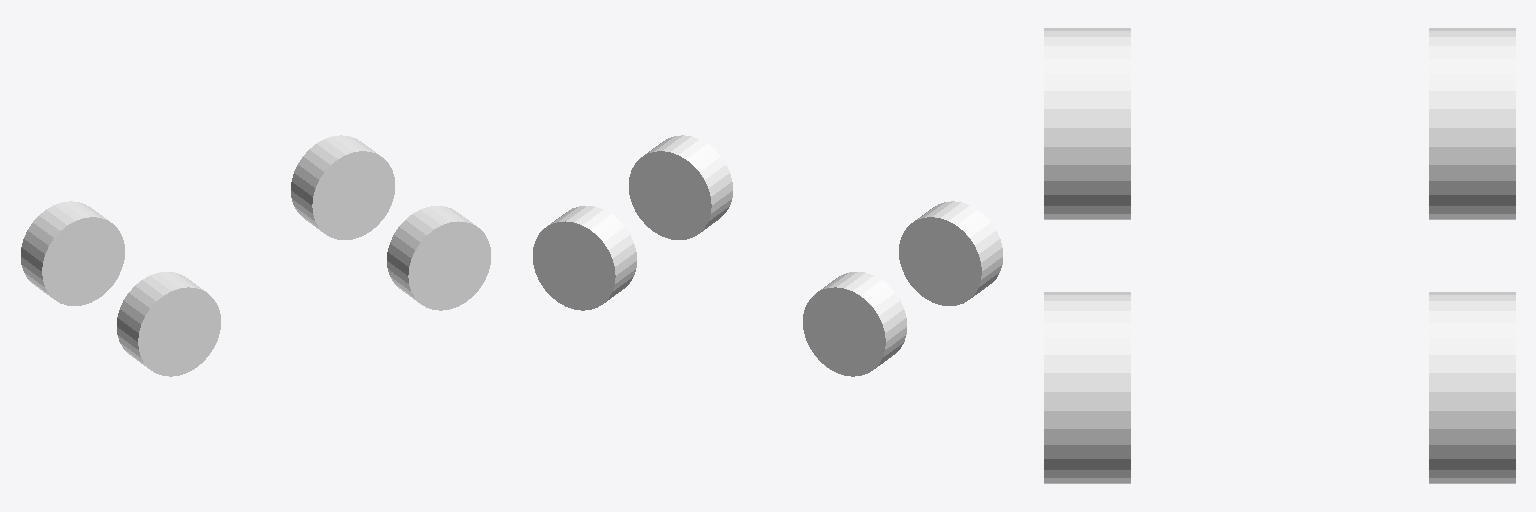
The robot description file, URDF, robot "racecar":
<?xml version="1.0" ?>
<!-- =================================================================================== -->
<!-- |    This document was autogenerated by xacro from racecar.xacro                  | -->
<!-- |    EDITING THIS FILE BY HAND IS NOT RECOMMENDED                                 | -->
<!-- =================================================================================== -->
<robot name="racecar" xmlns:xacro="http://www.ros.org/wiki/xacro">
  <!-- inertial parameter macros -->
  <!-- geometry macros -->
  <!-- transmission macros -->
  <!-- Add chassis and it's inertia link -->
  <link name="base_link">
   <inertial>
      <origin rpy="0 0 0" xyz="0 0 0"/>
      <mass value=".1"/>
      <inertia ixx="0.010609" ixy="0" ixz="0" iyy="0.050409" iyz="0" izz="0.05865"/>
    </inertial>
  </link>
  <link name="chassis">
   <inertial>
      <origin rpy="0 0 0" xyz="0 0 0"/>
      <mass value=".1"/>
      <inertia ixx="0.010609" ixy="0" ixz="0" iyy="0.050409" iyz="0" izz="0.05865"/>
    </inertial>
    <visual>
      <origin rpy="0 0 0" xyz="0 0 0"/>
      <geometry>
        <mesh filename="meshes/chassis.STL"/>
      </geometry>
      <material name="blue"/>
    </visual>
  </link>
  <joint name="base_link_joint" type="fixed">
    <origin rpy="0 0 0" xyz="0 0 0.05"/>
    <parent link="base_link"/>
    <child link="chassis"/>
  </joint>
  <link name="chassis_inertia">
    <inertial>
      <origin rpy="0 0 0" xyz="0.1477 0 0"/>
      <mass value="400.0"/>
      <inertia ixx="1.0609" ixy="0" ixz="0" iyy="5.0409" iyz="0" izz="5.865"/>
    </inertial>
  </link>
  <joint name="chassis_inertia_joint" type="fixed">
    <origin rpy="0 0 0" xyz="0 0 0"/>
    <parent link="chassis"/>
    <child link="chassis_inertia"/>
  </joint>
  <!-- Add the left rear wheel with its joints and tranmissions -->
  <link name="left_rear_wheel">
    <inertial>
      <origin rpy="0 0 0" xyz="0 0 -0.0225"/>
      <mass value="0.34055"/>
      <inertia ixx="0.00026046" ixy="0" ixz="0" iyy="0.00026046" iyz="0" izz="0.00041226"/>
    </inertial>
    <visual>
      <origin rpy="0 0 0" xyz="0 0 0"/>
      <geometry>
        <cylinder length="0.045" radius="0.05"/>
      </geometry>
      <material name="white"/>
    </visual>
    <collision>
      <origin rpy="0 0 0" xyz="0 0 -0.0225"/>
      <geometry>
        <cylinder length="0.045" radius="0.05"/>
      </geometry>
    </collision>
  </link>
  <joint name="left_rear_wheel_joint" type="continuous">
    <origin rpy="1.5708 0 0" xyz="0 0.1 0"/>
    <parent link="chassis"/>
    <child link="left_rear_wheel"/>
    <axis xyz="0 0 -1"/>
    <limit effort="10" velocity="100"/>
  </joint>
  <transmission name="left_rear_wheel_transmission" type="SimpleTransmission">
    <type>transmission_interface/SimpleTransmission</type>
    <joint name="left_rear_wheel_joint">
      <hardwareInterface>EffortJointInterface</hardwareInterface>
    </joint>
    <actuator name="left_rear_wheel_motor">
      <hardwareInterface>EffortJointInterface</hardwareInterface>
      <mechanicalReduction>1</mechanicalReduction>
    </actuator>
  </transmission>
  <!-- Add the right rear wheel with its joints and tranmissions -->
  <link name="right_rear_wheel">
    <inertial>
      <origin rpy="0 0 0" xyz="0 0 0.0225"/>
      <mass value="0.34055"/>
      <inertia ixx="0.00026046" ixy="0" ixz="0" iyy="0.00026046" iyz="0" izz="0.00041226"/>
    </inertial>
    <visual>
      <origin rpy="0 0 0" xyz="0 0 0"/>
      <geometry>
        <cylinder length="0.045" radius="0.05"/>
      </geometry>
      <material name="white"/>
    </visual>
    <collision>
      <origin rpy="0 0 0" xyz="0 0 0.0225"/>
      <geometry>
        <cylinder length="0.045" radius="0.05"/>
      </geometry>
    </collision>
  </link>
  <joint name="right_rear_wheel_joint" type="continuous">
    <origin rpy="1.5708 0 0" xyz="0 -0.1 0"/>
    <parent link="chassis"/>
    <child link="right_rear_wheel"/>
    <axis xyz="0 0 -1"/>
    <limit effort="10" velocity="100"/>
  </joint>
  <transmission name="right_rear_wheel_transmission" type="SimpleTransmission">
    <type>transmission_interface/SimpleTransmission</type>
    <joint name="right_rear_wheel_joint">
      <hardwareInterface>EffortJointInterface</hardwareInterface>
    </joint>
    <actuator name="right_rear_wheel_motor">
      <hardwareInterface>EffortJointInterface</hardwareInterface>
      <mechanicalReduction>1</mechanicalReduction>
    </actuator>
  </transmission>
  <!-- Add the left steering hinge with its joints and tranmissions -->
  <link name="left_steering_hinge">
    <inertial>
      <origin rpy="0 0 0" xyz="0 0 0"/>
      <mass value="0.100"/>
      <inertia ixx="4E-06" ixy="0" ixz="0" iyy="4E-06" iyz="0" izz="4E-06"/>
    </inertial>
    <visual>
      <origin rpy="0 0 0" xyz="0 0 0"/>
      <geometry>
        <mesh filename="meshes/left_steering_hinge.STL"/>
      </geometry>
      <material name="grey"/>
    </visual>
  </link>
  <joint name="left_steering_hinge_joint" type="fixed">
    <origin rpy="0 1.5708 0" xyz="0.325 0.1 0"/>
    <parent link="chassis"/>
    <child link="left_steering_hinge"/>
    <axis xyz="-1 0 0"/>
    <limit effort="10" lower="-1.0" upper="1.0" velocity="100"/>
  </joint>
  <transmission name="left_steering_hinge_transmission" type="SimpleTransmission">
    <type>transmission_interface/SimpleTransmission</type>
    <joint name="left_steering_hinge_joint">
      <hardwareInterface>EffortJointInterface</hardwareInterface>
    </joint>
    <actuator name="left_steering_hinge_motor">
      <hardwareInterface>EffortJointInterface</hardwareInterface>
      <mechanicalReduction>1</mechanicalReduction>
    </actuator>
  </transmission>
<!-- Add the right steering hinge with its joints and tranmissions -->
  <link name="right_steering_hinge">
    <inertial>
      <origin rpy="0 0 0" xyz="0 0 0"/>
      <mass value="0.100"/>
      <inertia ixx="4E-06" ixy="0" ixz="0" iyy="4E-06" iyz="0" izz="4E-06"/>
    </inertial>
    <visual>
      <origin rpy="0 0 0" xyz="0 0 0"/>
      <geometry>
        <mesh filename="meshes/right_steering_hinge.STL"/>
      </geometry>
      <material name="grey"/>
    </visual>
  </link>
  <joint name="right_steering_hinge_joint" type="fixed">
    <origin rpy="0 1.5708 0" xyz="0.325 -0.1 0"/>
    <parent link="chassis"/>
    <child link="right_steering_hinge"/>
    <axis xyz="-1 0 0"/>
    <limit effort="10" lower="-1.0" upper="1.0" velocity="100"/>
  </joint>
  <transmission name="right_steering_hinge_transmission" type="SimpleTransmission">
    <type>transmission_interface/SimpleTransmission</type>
    <joint name="right_steering_hinge_joint">
      <hardwareInterface>EffortJointInterface</hardwareInterface>
    </joint>
    <actuator name="right_steering_hinge_motor">
      <hardwareInterface>EffortJointInterface</hardwareInterface>
      <mechanicalReduction>1</mechanicalReduction>
    </actuator>
  </transmission>
  <!-- Add the left front wheel with its joints and tranmissions -->
  <link name="left_front_wheel">
    <inertial>
      <origin rpy="0 0 0" xyz="0 0 -0.0225"/>
      <mass value="0.34055"/>
      <inertia ixx="0.00026046" ixy="0" ixz="0" iyy="0.00026046" iyz="0" izz="0.00041226"/>
    </inertial>
    <visual>
      <origin rpy="0 0 0" xyz="0 0 0"/>
      <geometry>
        <cylinder length="0.045" radius="0.05"/>
      </geometry>
      <material name="white"/>
    </visual>
    <collision>
      <origin rpy="0 0 0" xyz="0 0 -0.0225"/>
      <geometry>
        <cylinder length="0.045" radius="0.05"/>
      </geometry>
    </collision>
  </link>
  <joint name="left_front_wheel_joint" type="continuous">
    <origin rpy="1.5708 0 0" xyz="0 0 0"/>
    <parent link="left_steering_hinge"/>
    <child link="left_front_wheel"/>
    <axis xyz="0 0 -1"/>
    <limit effort="10" velocity="100"/>
  </joint>
  <transmission name="left_front_wheel_transmission" type="SimpleTransmission">
    <type>transmission_interface/SimpleTransmission</type>
    <joint name="left_front_wheel_joint">
      <hardwareInterface>EffortJointInterface</hardwareInterface>
    </joint>
    <actuator name="left_front_wheel_motor">
      <hardwareInterface>EffortJointInterface</hardwareInterface>
      <mechanicalReduction>1</mechanicalReduction>
    </actuator>
  </transmission>
  <!-- Add the left front wheel with its joints and tranmissions -->
  <link name="right_front_wheel">
    <inertial>
      <origin rpy="0 0 0" xyz="0 0 0.0225"/>
      <mass value="0.34055"/>
      <inertia ixx="0.00026046" ixy="0" ixz="0" iyy="0.00026046" iyz="0" izz="0.00041226"/>
    </inertial>
    <visual>
      <origin rpy="0 0 0" xyz="0 0 0"/>
      <geometry>
        <cylinder length="0.045" radius="0.05"/>
      </geometry>
      <material name="white"/>
    </visual>
    <collision>
      <origin rpy="0 0 0" xyz="0 0 0.0225"/>
      <geometry>
        <cylinder length="0.045" radius="0.05"/>
      </geometry>
    </collision>
  </link>
  <joint name="right_front_wheel_joint" type="continuous">
    <origin rpy="1.5708 0 0" xyz="0 0 0"/>
    <parent link="right_steering_hinge"/>
    <child link="right_front_wheel"/>
    <axis xyz="0 0 -1"/>
    <limit effort="10" velocity="100"/>
  </joint>
  <transmission name="right_front_wheel_transmission" type="SimpleTransmission">
    <type>transmission_interface/SimpleTransmission</type>
    <joint name="right_front_wheel_joint">
      <hardwareInterface>EffortJointInterface</hardwareInterface>
    </joint>
    <actuator name="right_front_wheel_motor">
      <hardwareInterface>EffortJointInterface</hardwareInterface>
      <mechanicalReduction>1</mechanicalReduction>
    </actuator>
  </transmission>
  <material name="white">
    <color rgba="1. 1. 1. 1.0"/>
  </material>
  <material name="black">
    <color rgba="0. 0. 0. 1.0"/>
  </material>
  <material name="blue">
    <color rgba="0.0 0.0 0.8 1.0"/>
  </material>
  <material name="green">
    <color rgba="0.0 0.8 0.0 1.0"/>
  </material>
  <material name="grey">
    <color rgba="0.2 0.2 0.2 1.0"/>
  </material>
  <material name="orange">
    <color rgba="1.0 0.423529411765 0.0392156862745 1.0"/>
  </material>
  <material name="brown">
    <color rgba="0.870588235294 0.811764705882 0.764705882353 1.0"/>
  </material>
  <material name="red">
    <color rgba="0.8 0.0 0.0 1.0"/>
  </material>
</robot>

--- Render facts (derived) ---
3 views of the same robot in one strip: view 1: azimuth 30°, elevation 25°; view 2: azimuth 150°, elevation 25°; view 3: azimuth 270°, elevation 25° (orthographic).
Robot: racecar — 9 links, 8 joints (4 continuous, 4 fixed); root link base_link; default pose: all joints at 0.
Visible links, largest first — view 1: left_rear_wheel, right_rear_wheel, left_front_wheel, right_front_wheel; view 2: left_rear_wheel, right_rear_wheel, left_front_wheel, right_front_wheel; view 3: left_rear_wheel, right_rear_wheel, left_front_wheel, right_front_wheel.
Link boxes in pixels (x1,y1,x2,y2): left_rear_wheel: (21,201,124,305); right_rear_wheel: (117,272,220,376); left_front_wheel: (291,135,394,239); right_front_wheel: (387,206,490,310); left_rear_wheel: (803,272,906,376); right_rear_wheel: (899,201,1002,305); left_front_wheel: (533,206,636,310); right_front_wheel: (629,135,732,239); left_rear_wheel: (1429,28,1515,219); right_rear_wheel: (1044,28,1130,219); left_front_wheel: (1429,292,1515,483); right_front_wheel: (1044,292,1130,483).
Bounding box of the posed robot: 0.425 × 0.245 × 0.1 m (x, y, z).
Meshes: 3 distinct files referenced, 0 mesh visuals loaded (none loaded); not drawn: 3 (reference not matched to a file when rendering).